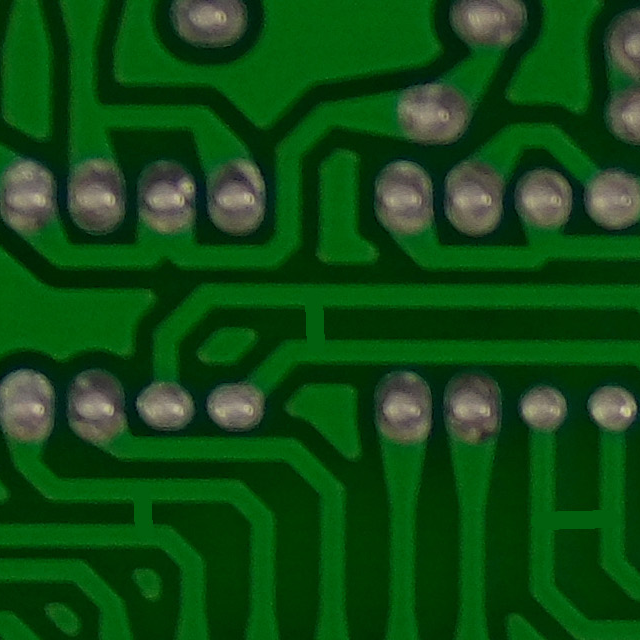short: (521, 483, 640, 572), (92, 466, 199, 559), (270, 271, 370, 369)
